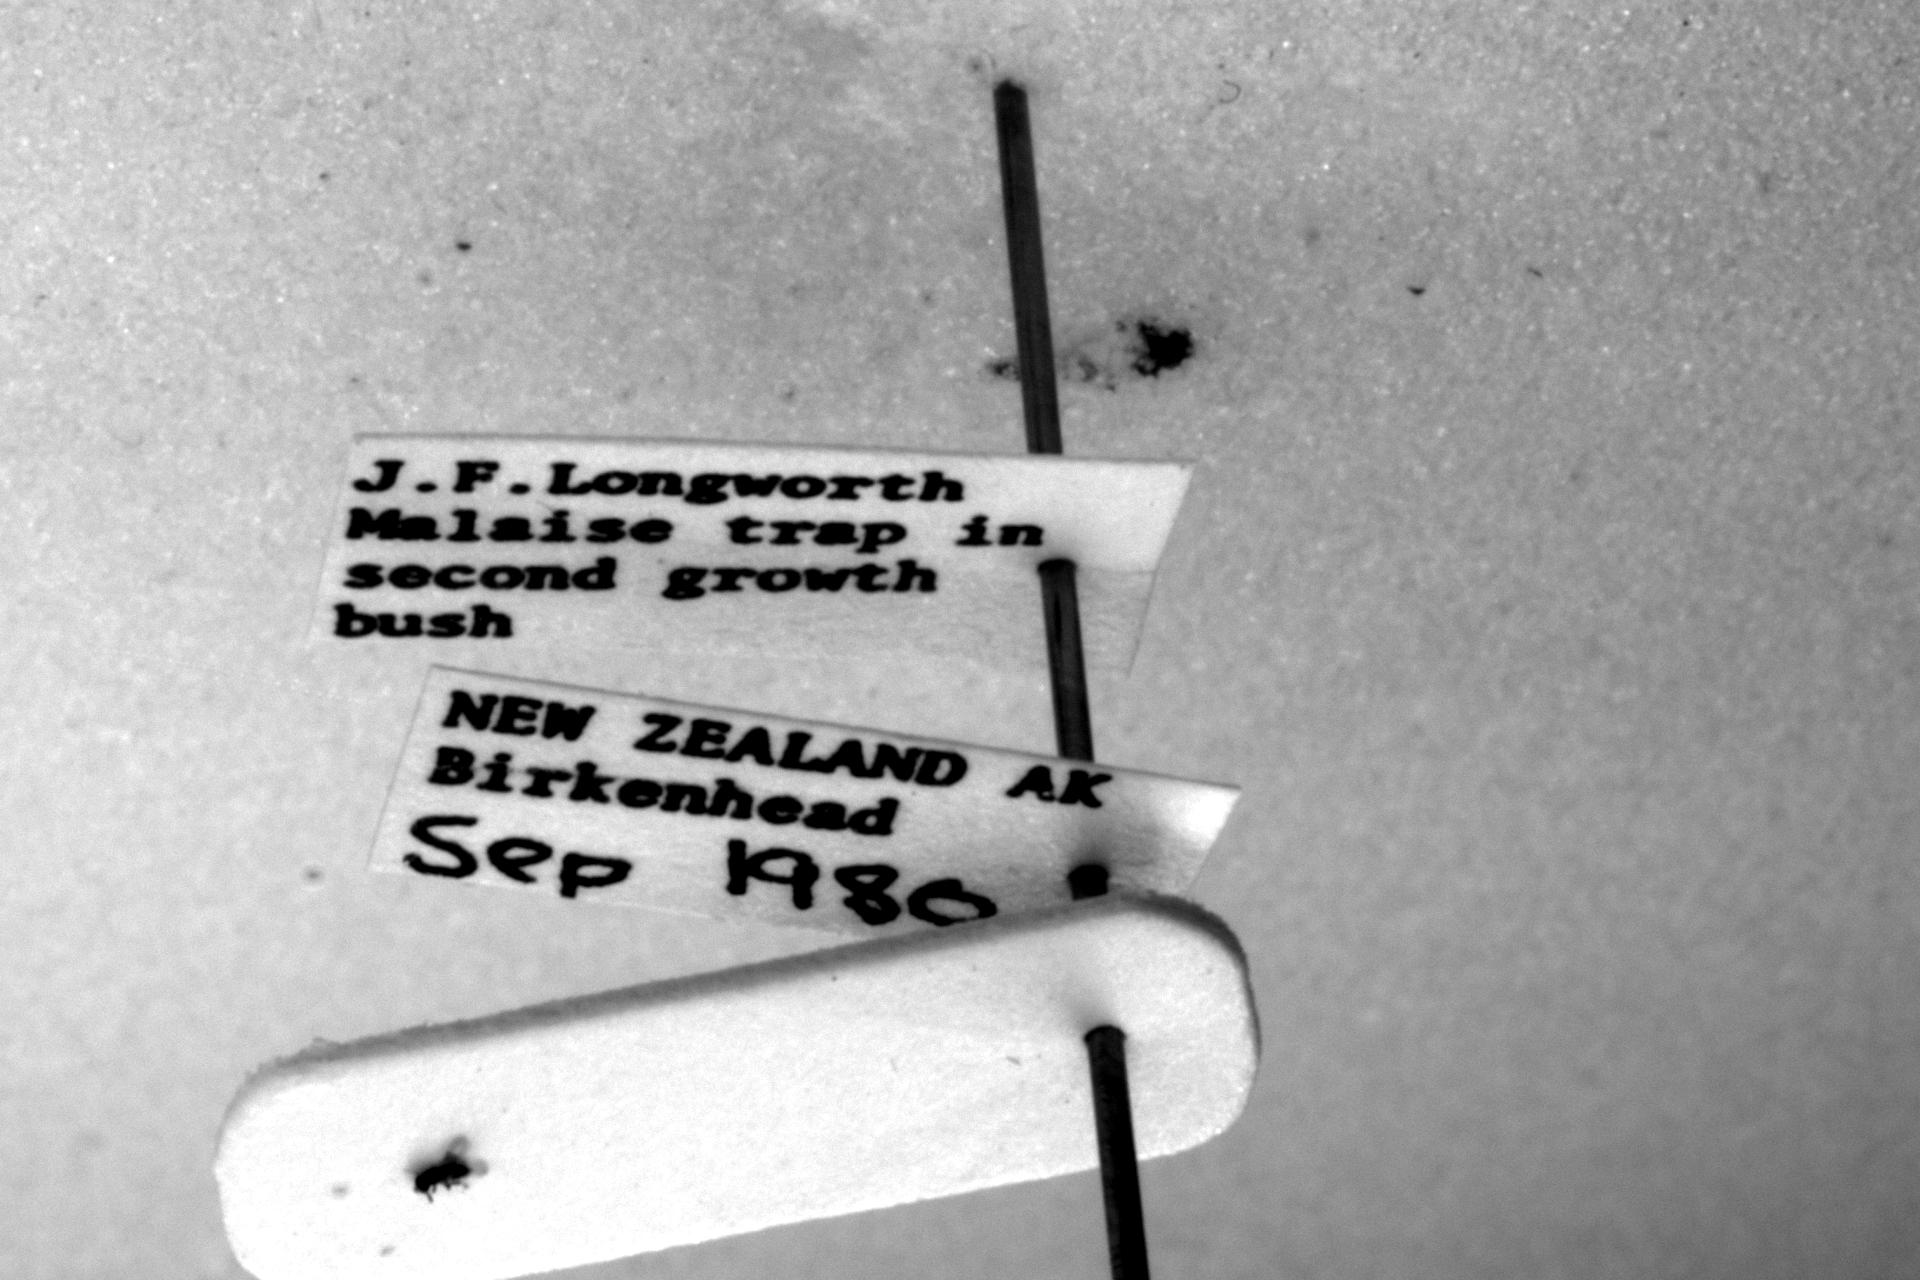mixed_label: (371, 667, 1237, 937)
typed_label: (311, 434, 1193, 674)
